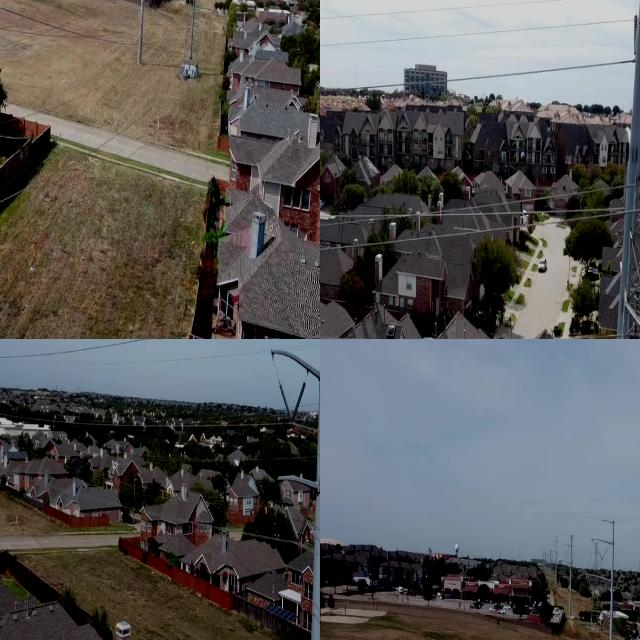杆塔: (179, 0, 209, 78), (590, 538, 604, 626)
正常绝缘子: (283, 498, 315, 547), (278, 380, 308, 427)
